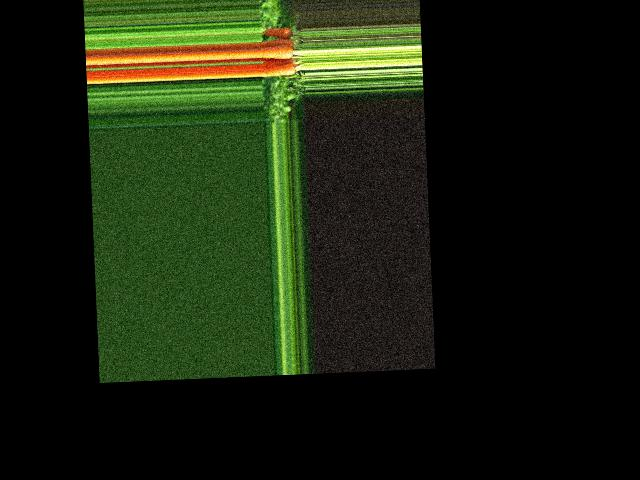carrot: (258, 24, 292, 41)
